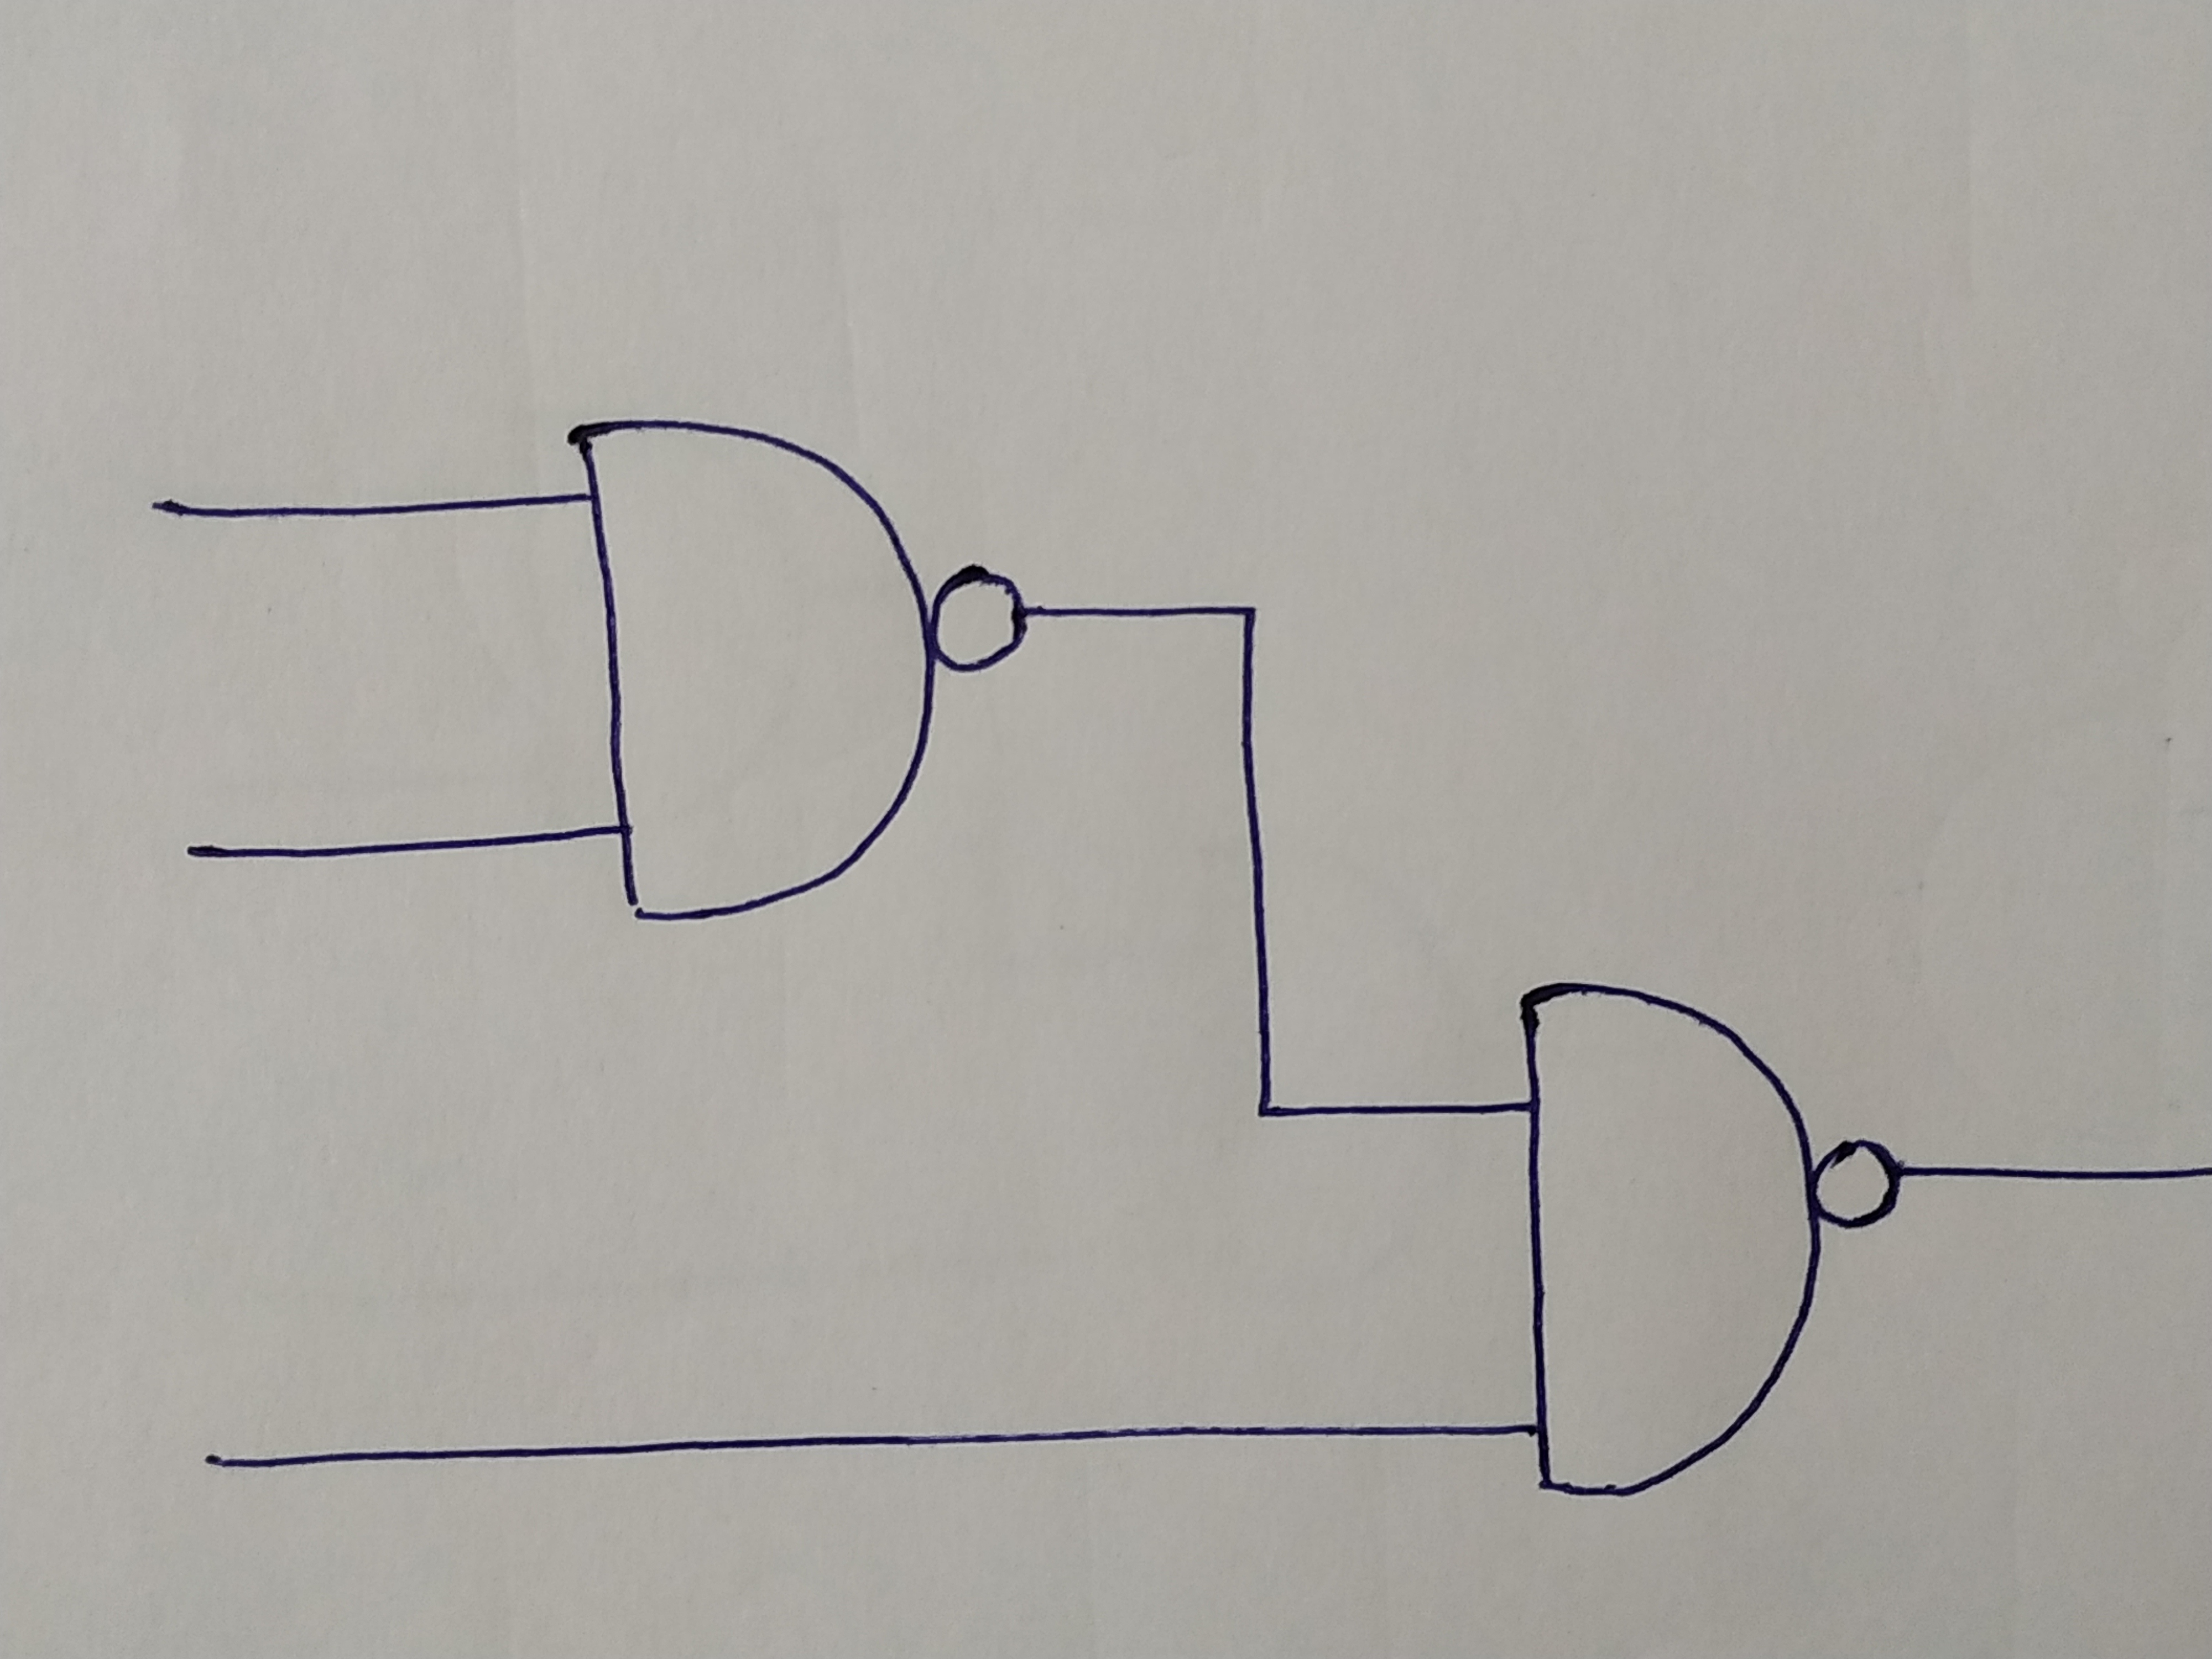and: (582, 427, 935, 917), (1517, 974, 1818, 1500)
not: (934, 568, 1028, 673), (1818, 1143, 1898, 1223)
